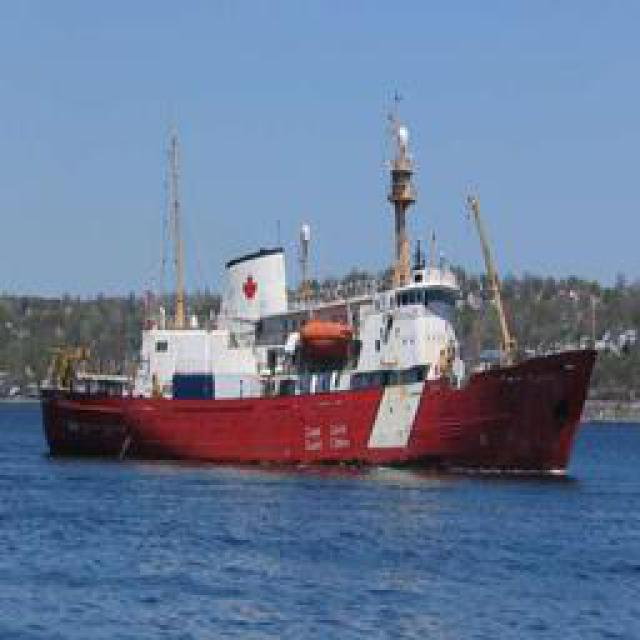Ship: (49, 87, 609, 475)
